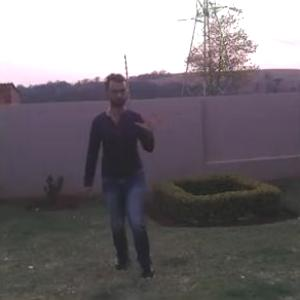follow_hand: (136, 106, 167, 133)
